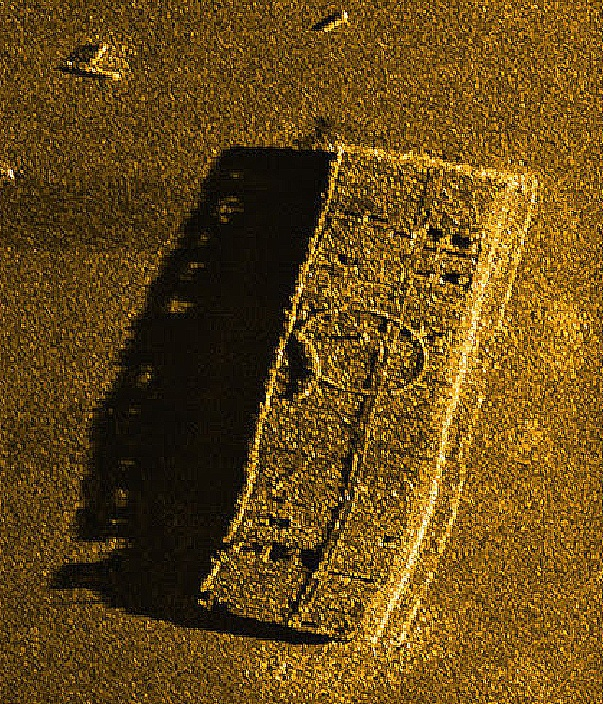ship: (195, 142, 539, 649)
